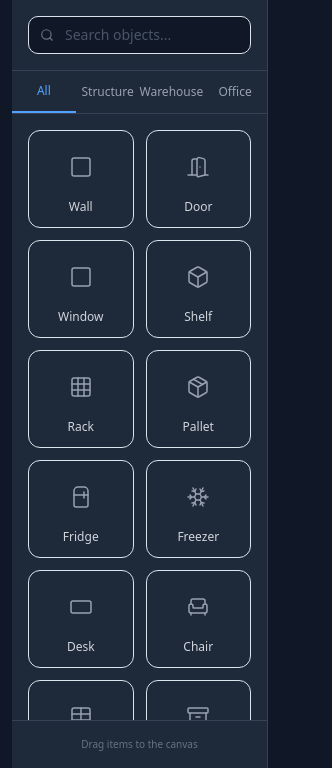
LibraryPanel Component › should filter objects by search query
The image size is (332, 768).
Type "desk" into the field with placeholder "Search objects..." at (140, 35), box x1=28 y1=16 x2=251 y2=54
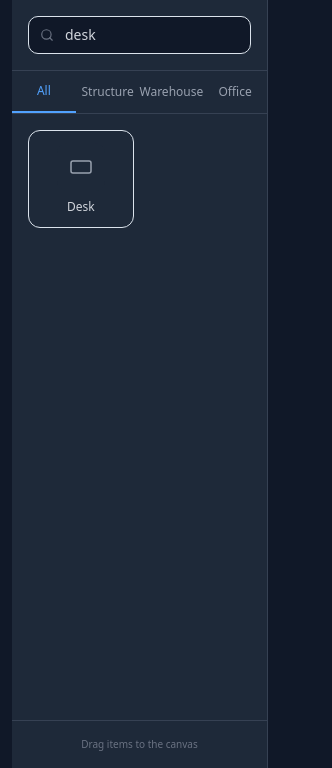
Expected: the text "Desk" is shown, x1=67 y1=199 x2=95 y2=215
Result: the button "Wall" is gone
Result: the button "Shelf" is gone
